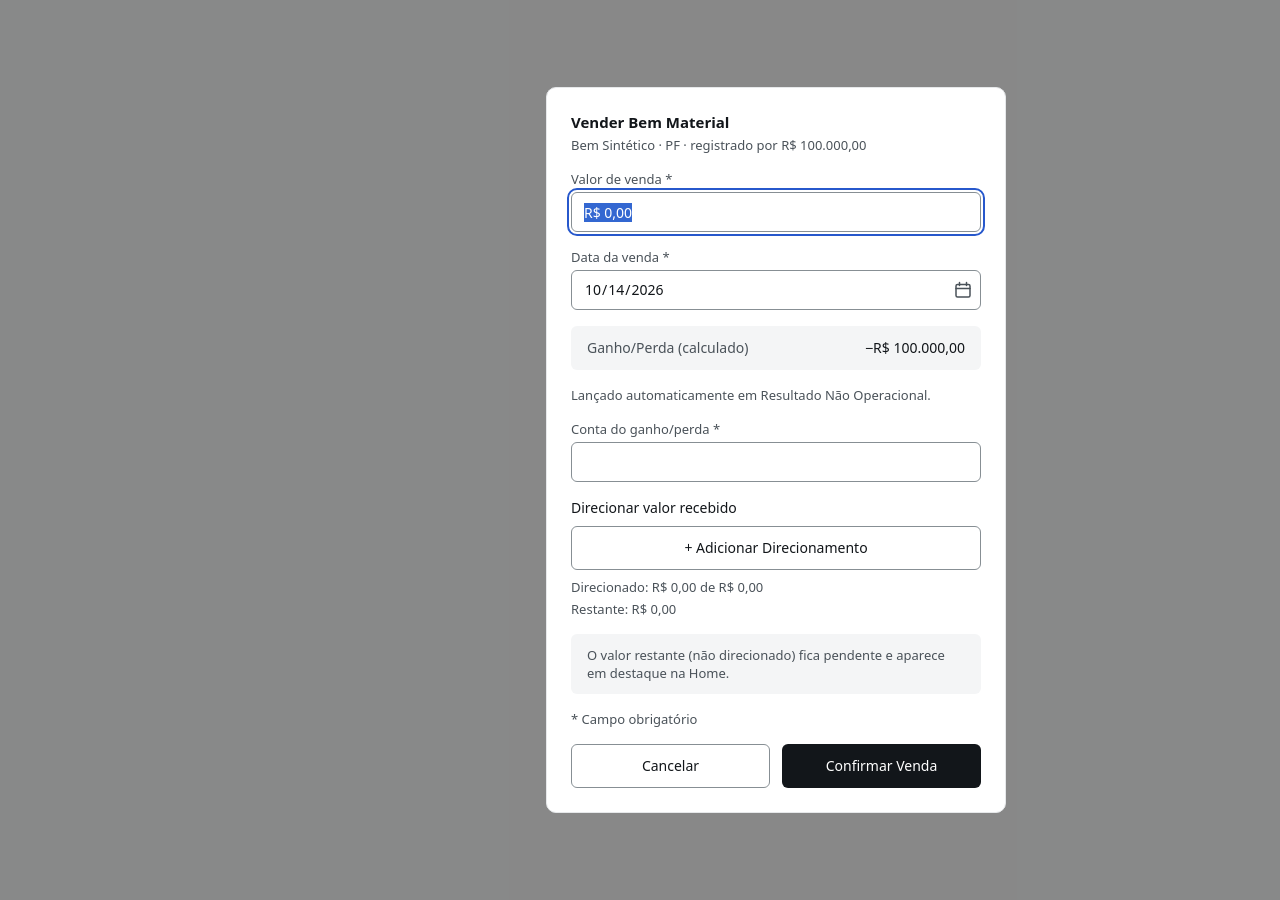
Test: Vender Bem Material — criar o destino do Direcionamento (Figma 103:21) › Figma 103:37 — criar destino abre o cadastro completo, não um formulário reduzido
This screenshot has width=1280, height=900.
Click the button "+ Adicionar Direcionamento". click: (776, 548)
box: [571, 526, 981, 570]
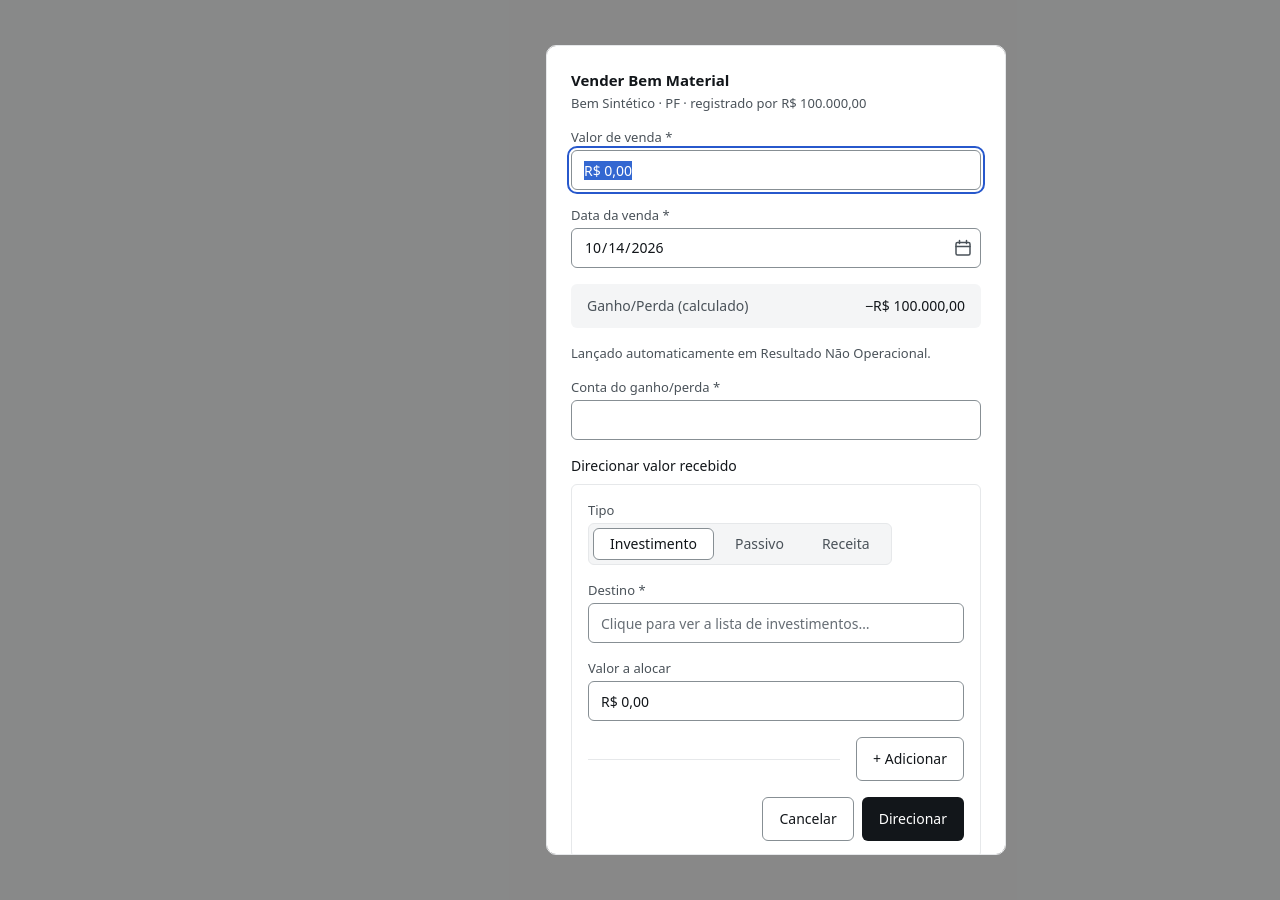
Type "Tesouro Inédito" into the field with placeholder "Clique para ver a lista de investimentos…". click: (776, 623)
box: [588, 603, 964, 643]
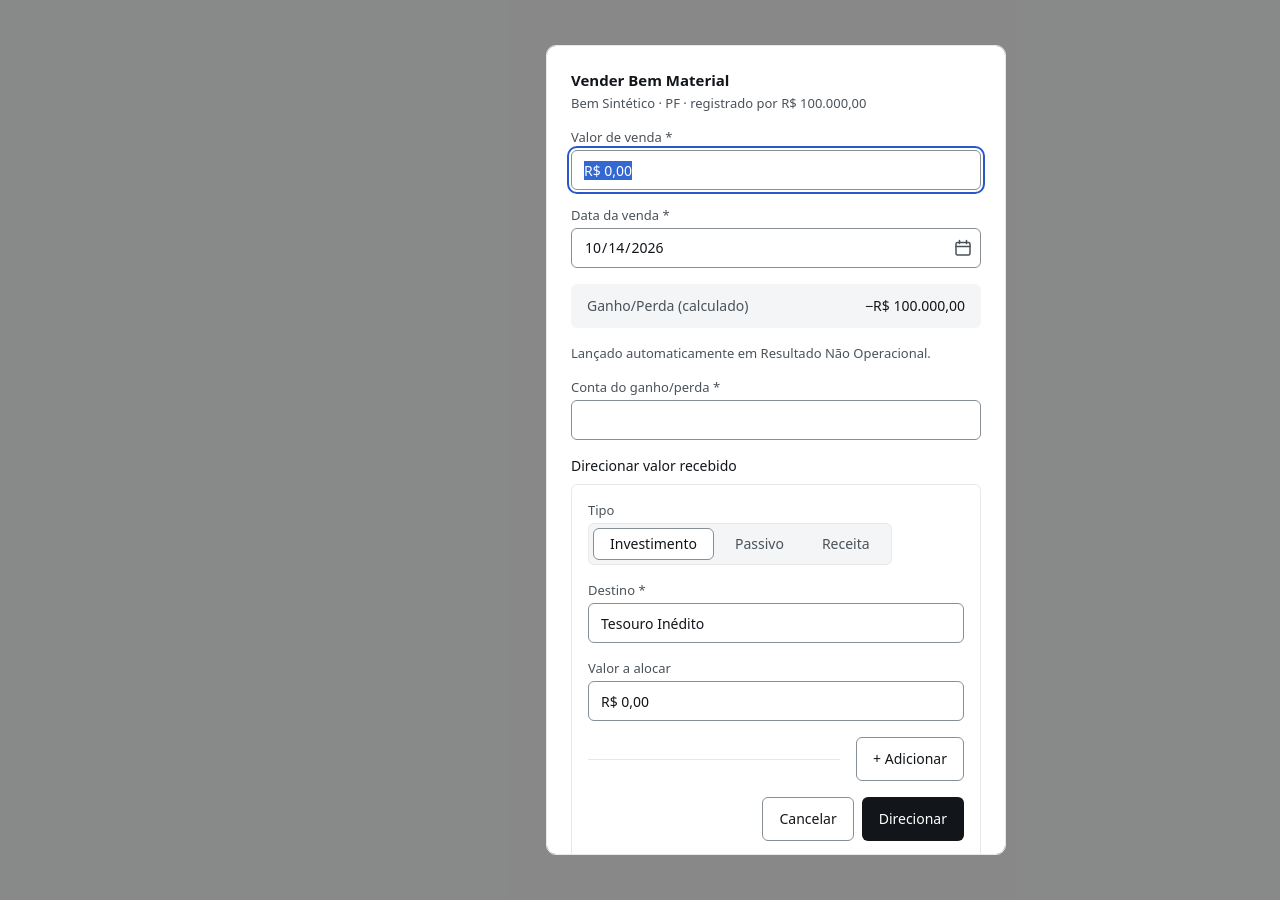
Click the button "+ Adicionar". click: (910, 759)
box: [856, 737, 964, 781]
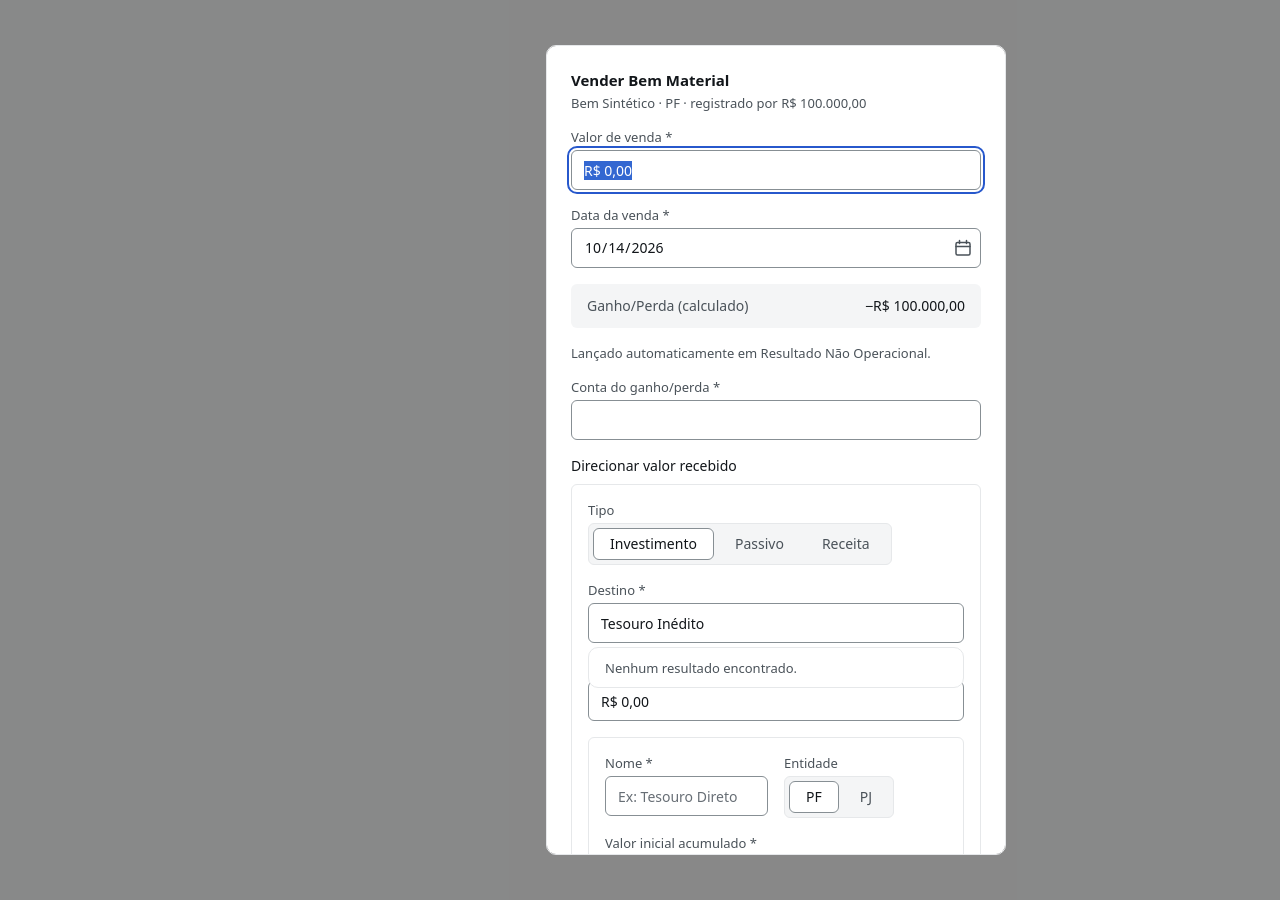
expect the radio button labelled "PJ" is shown: met, box [843, 781, 889, 813]
